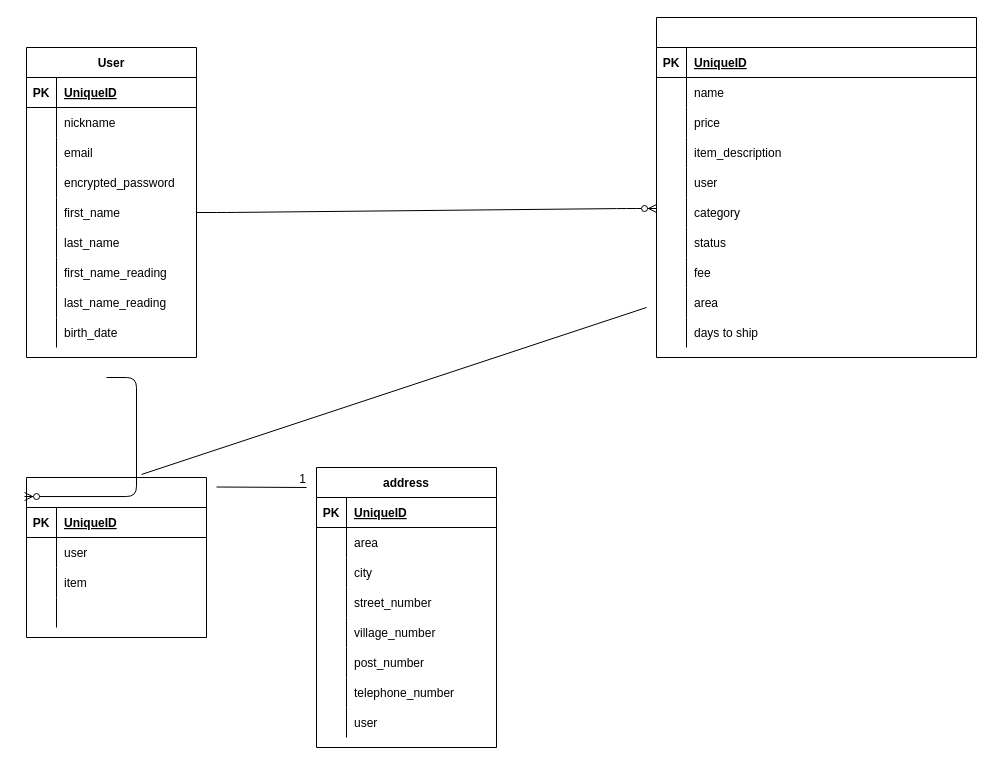
The diagram is 994 pixels wide and 765 high, and some of its shapes have lost their labels. Each missing label, with the box of its shape:
Items: (656, 16, 976, 358)
Record: (26, 476, 206, 638)
